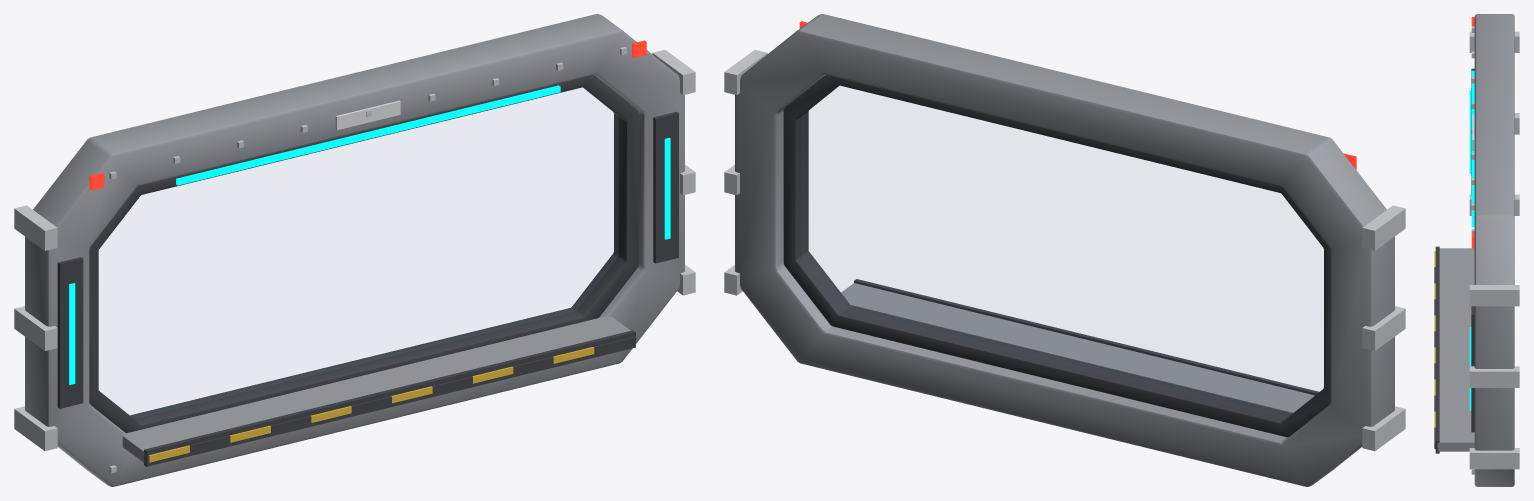
File: FV_ObservationWindow.fbx
3 renders of one model, left to right at view 1: azimuth 30°, elevation 25°; view 2: azimuth 150°, elevation 25°; view 3: azimuth 270°, elevation 25°, orthographic. The views are drawn at different scales.
Parts seen in each view (by area): view 1: ObservationWindow; view 2: ObservationWindow; view 3: ObservationWindow.
Part boxes in pixels (x1,y1,x2,y2): ObservationWindow: (14, 14, 695, 486); ObservationWindow: (724, 14, 1405, 486); ObservationWindow: (1434, 14, 1519, 486).
Bounding box in the file's own units: 6.12 × 3 × 0.855.
